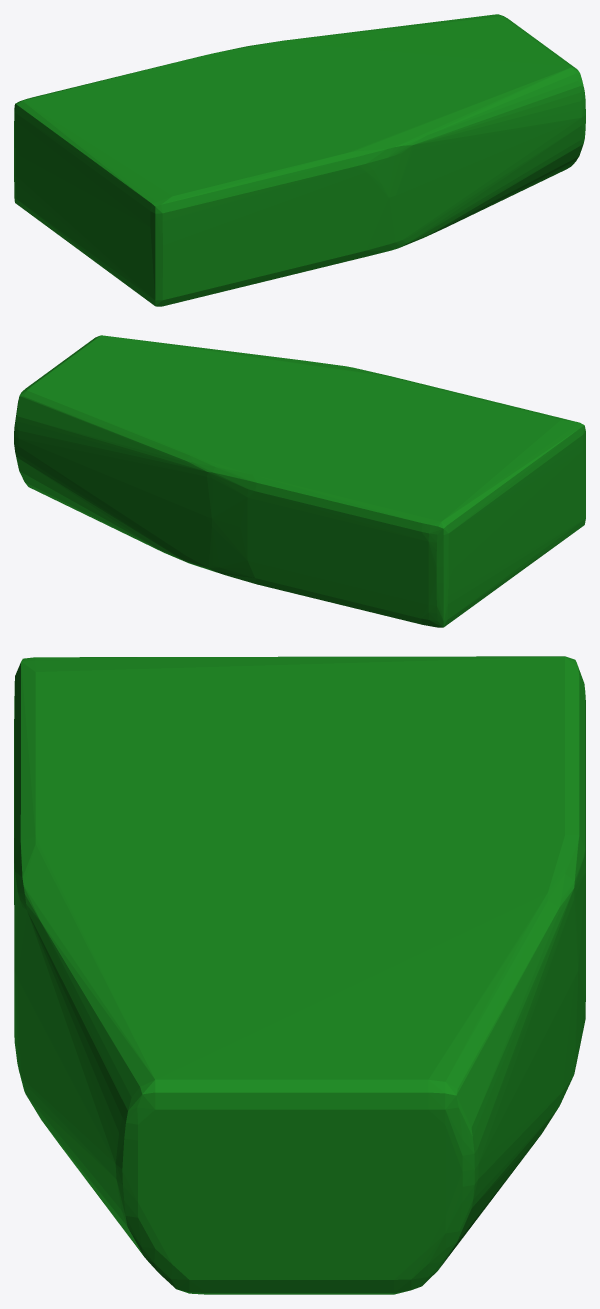
File: right-tarsus-0_part_8.obj
3 renders of one model, top to bottom at view 1: azimuth 30°, elevation 25°; view 2: azimuth 150°, elevation 25°; view 3: azimuth 270°, elevation 25°, orthographic. The views are drawn at different scales.
Bounding box in the file's own units: 0.1143 × 0.026 × 0.0627.
